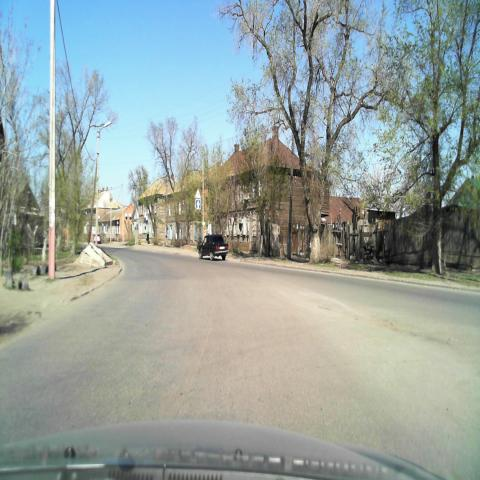5_5: (195, 199, 201, 210)
